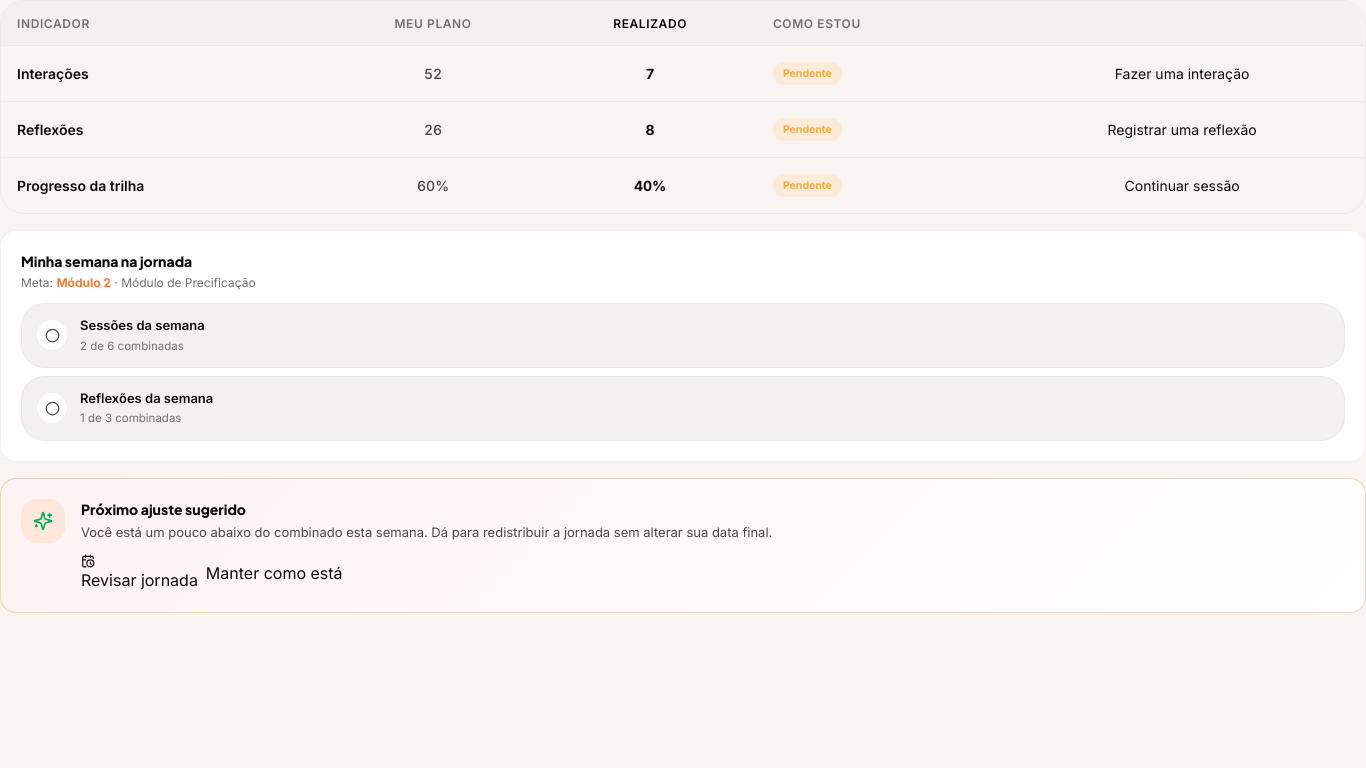
Test case: PlanComparisonPanel — 'Próximo ajuste sugerido' › 'Manter como está' dispensa o card localmente, sem fetch/navegação
Click the button with test id "plan-suggested-keep". click: (274, 573)
box: [206,554,343,592]
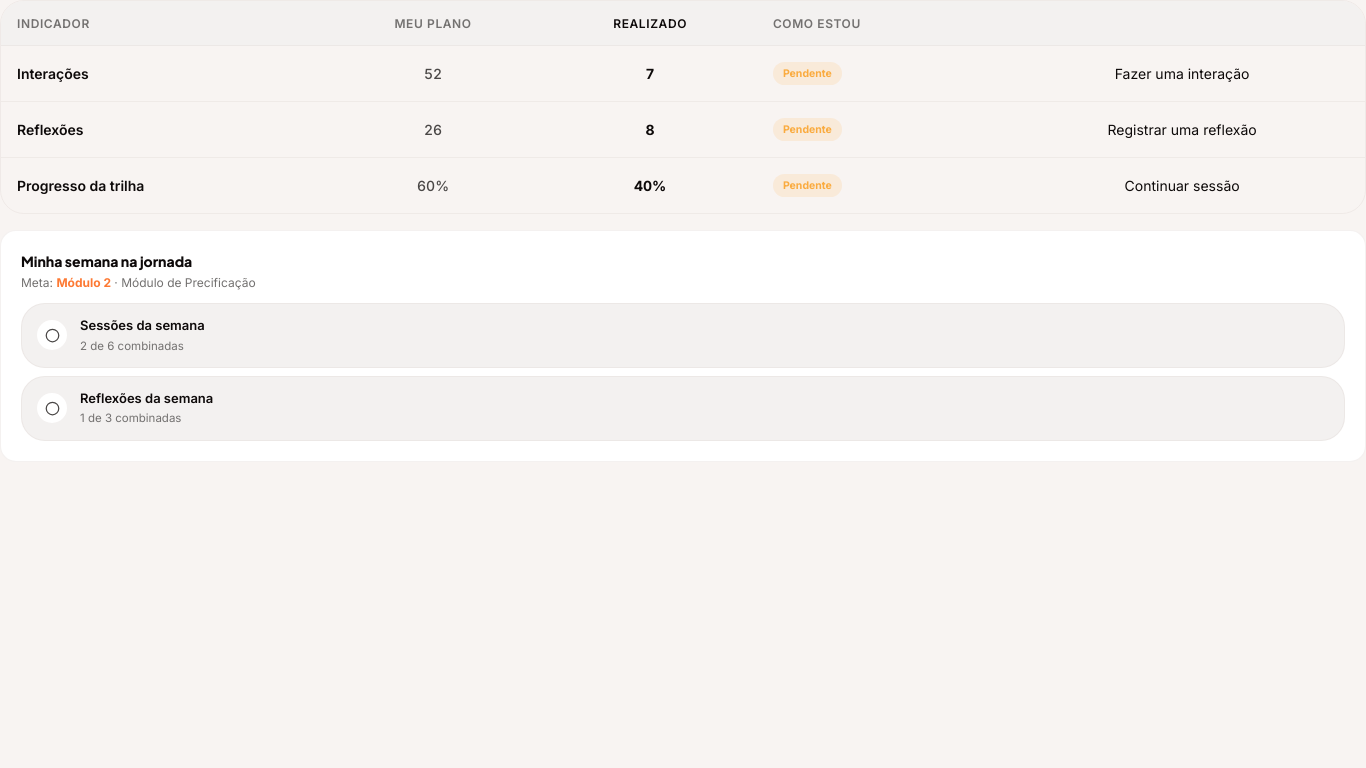
Now the element with test id "plan-suggested-adjustment" is gone
